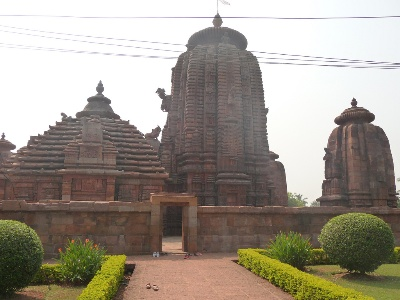amalaka: (174, 22, 256, 52), (329, 106, 383, 128)
gopuram: (156, 49, 280, 190), (319, 125, 400, 207)
